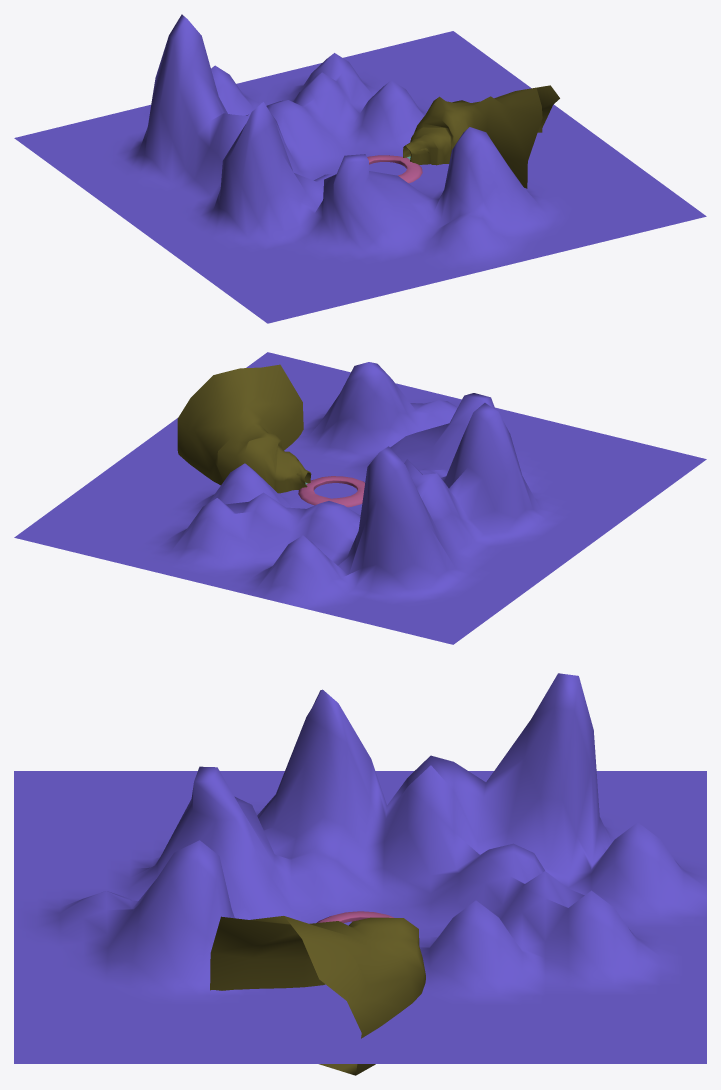
File: arena3.fbx
3 views of the same model, one above another, from view 1: azimuth 30°, elevation 25°; view 2: azimuth 150°, elevation 25°; view 3: azimuth 270°, elevation 25° (orthographic). The views are drawn at different scales.
Parts seen in each view (by area): view 1: Ground, Tunnel, Arena; view 2: Ground, Tunnel, Arena; view 3: Ground, Tunnel.
Part boxes in pixels (bbox=[...]): Ground: bbox=[14, 14, 706, 323]; Tunnel: bbox=[403, 85, 559, 188]; Arena: bbox=[367, 155, 422, 183]; Ground: bbox=[14, 352, 706, 644]; Tunnel: bbox=[177, 364, 311, 493]; Arena: bbox=[298, 476, 364, 507]; Ground: bbox=[14, 673, 706, 1063]; Tunnel: bbox=[210, 916, 425, 1075].
Bounding box in the file's own units: 50805 × 17459 × 50805.
